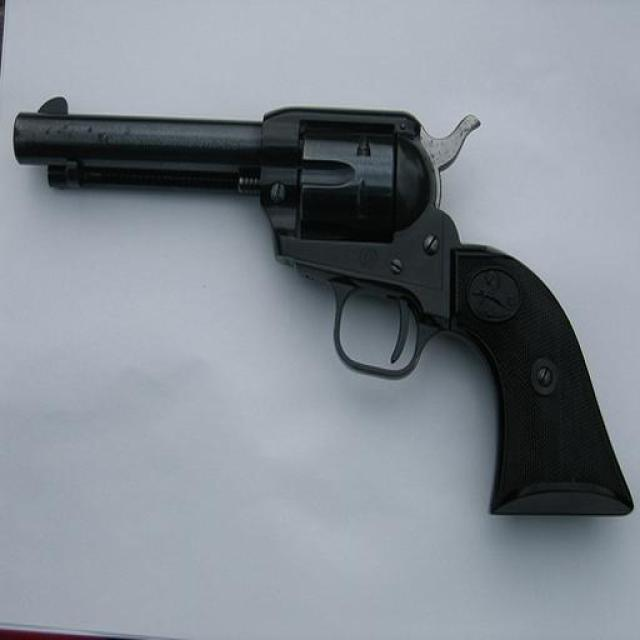pistol: (12, 94, 632, 524)
